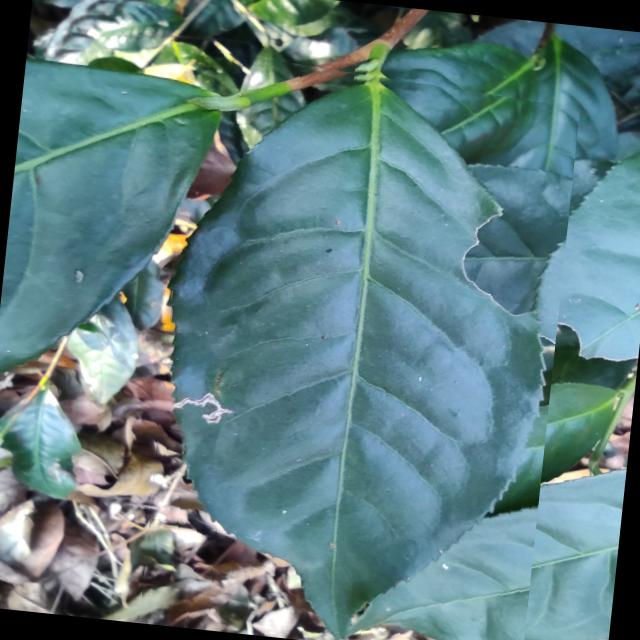Category D(7+ days, Not for Tea): (134, 47, 581, 640)
